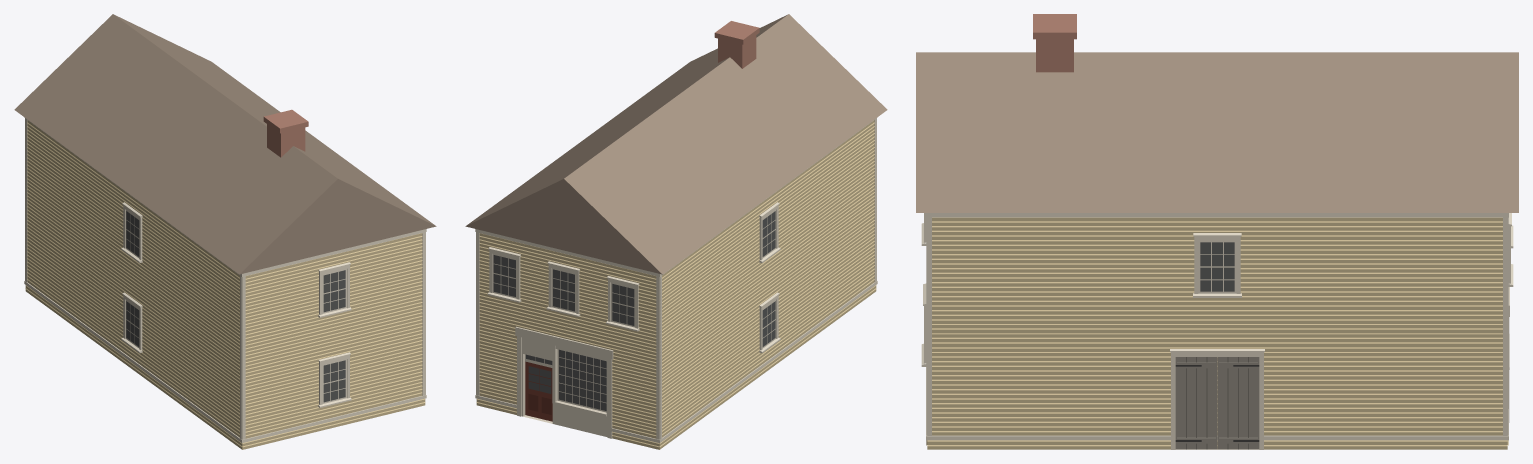
Rendered from recon_1835_core_c3_042__inferred_1835.glb.
The picture shows the model from 3 angles, left to right: view 1: azimuth 30°, elevation 25°; view 2: azimuth 150°, elevation 25°; view 3: azimuth 270°, elevation 25°; orthographic projection. The views are drawn at different scales.
Visible parts, largest first — view 1: recon_1835_core_c3_042__inferred_1835; view 2: recon_1835_core_c3_042__inferred_1835; view 3: recon_1835_core_c3_042__inferred_1835.
Part boxes in pixels (x1,y1,x2,y2): recon_1835_core_c3_042__inferred_1835: (14, 14, 436, 449); recon_1835_core_c3_042__inferred_1835: (465, 14, 887, 449); recon_1835_core_c3_042__inferred_1835: (916, 14, 1518, 449).
Size of the model in its own units: 6.77 by 8.97 by 13.38.
